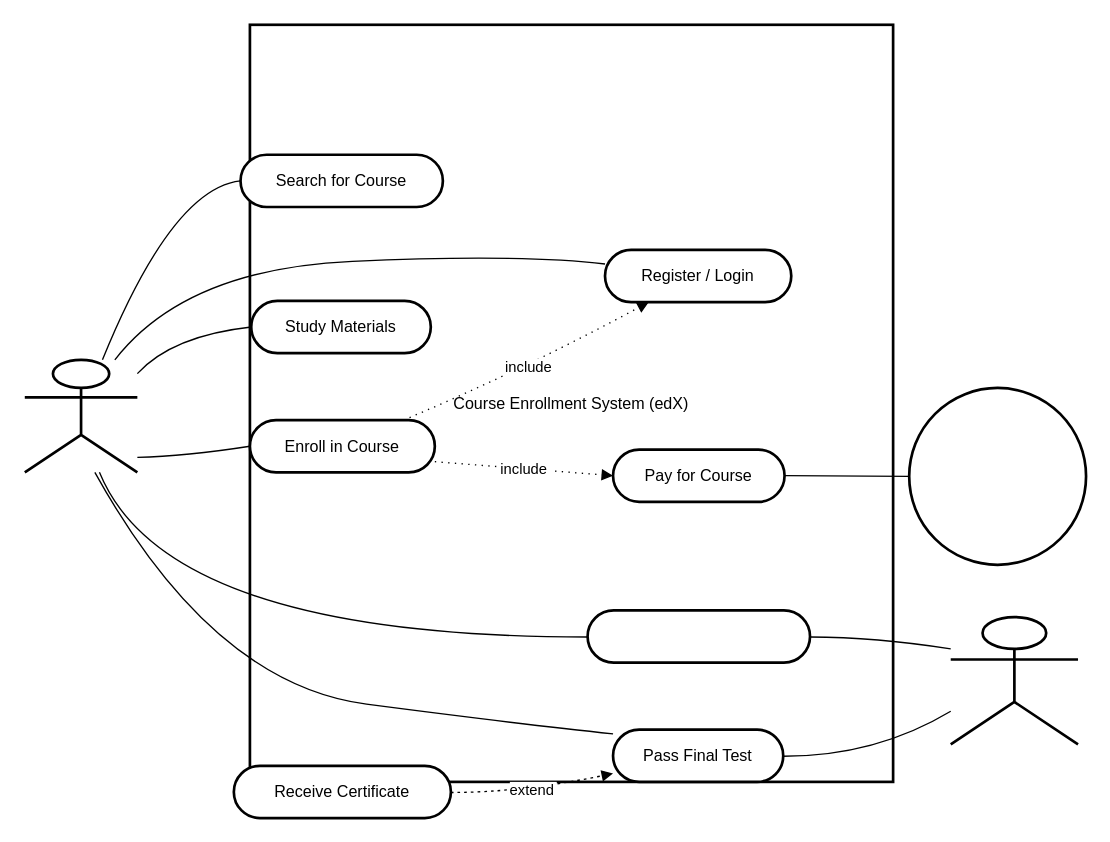
The diagram is 1110 pixels wide and 842 high, and some of its shapes have lost their labels. The box of each missing label's shape, as (x1, y1, x2, y2) in pixels:
Payment System: (907, 386, 1087, 565)
Student: (23, 358, 138, 473)
Submit Assignments: (586, 608, 811, 663)
Teacher: (949, 615, 1079, 745)
